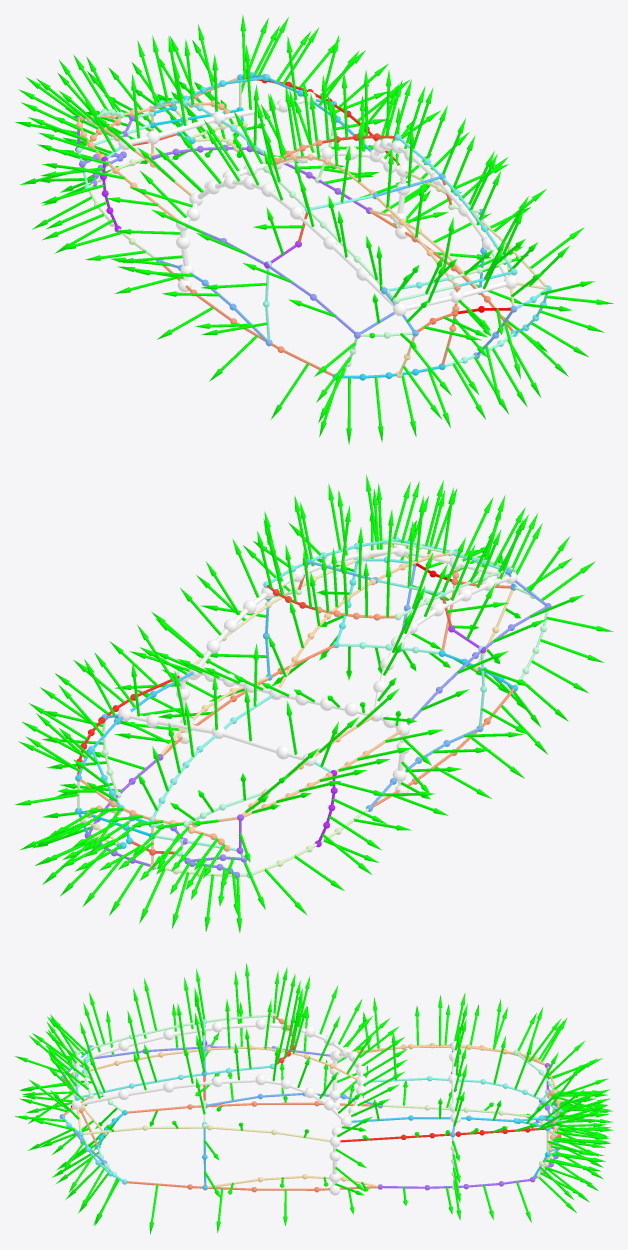
File: ils_car2.gltf
The picture shows the model from 3 angles, top to bottom: view 1: azimuth 30°, elevation 25°; view 2: azimuth 150°, elevation 25°; view 3: azimuth 270°, elevation 25°; orthographic projection. The views are drawn at different scales.
Bounding box in the file's own units: 0.5794 × 0.3947 × 1.08.
